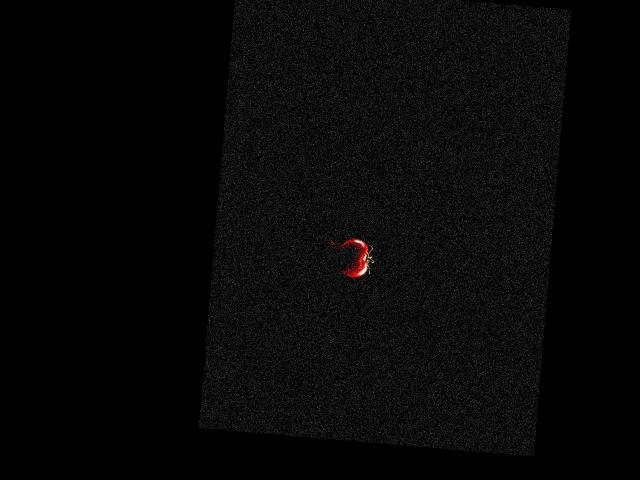tomato: (337, 238, 371, 278)
